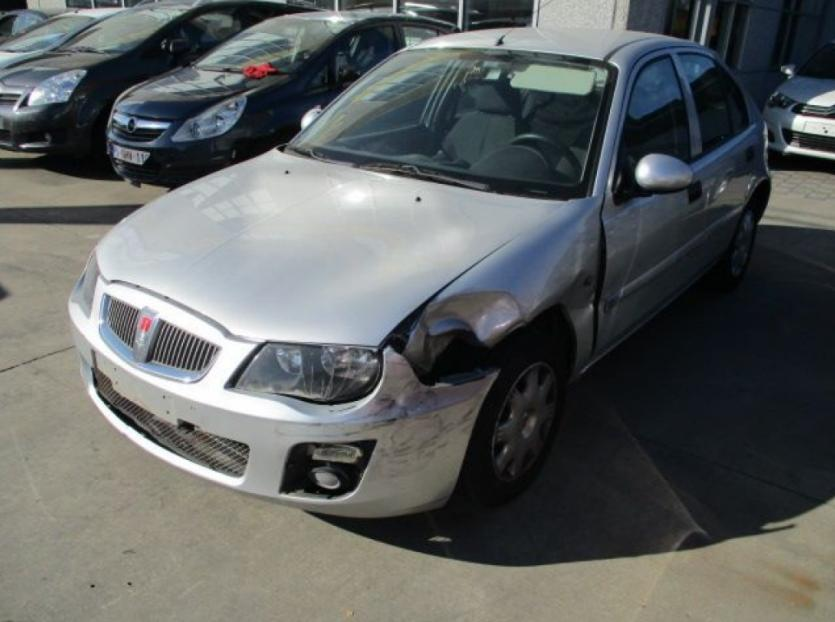Back-door: (672, 48, 762, 269)
Back-wheel: (705, 206, 758, 291)
Back-window: (677, 53, 751, 158)
Fender: (384, 194, 604, 388)
Front-bumper: (67, 275, 498, 516)
Front-door: (595, 48, 711, 356)
Front-wheel: (469, 347, 569, 506)
Front-window: (612, 52, 691, 192)
Grille: (99, 292, 222, 382)
Headlight: (234, 342, 381, 404), (69, 246, 100, 313)
Hood: (96, 147, 566, 349)
Mirror: (613, 154, 693, 206), (301, 109, 322, 128)
Quarter-panel: (752, 114, 772, 187)
Roof: (408, 26, 685, 60)
Windshield: (278, 47, 620, 199)
